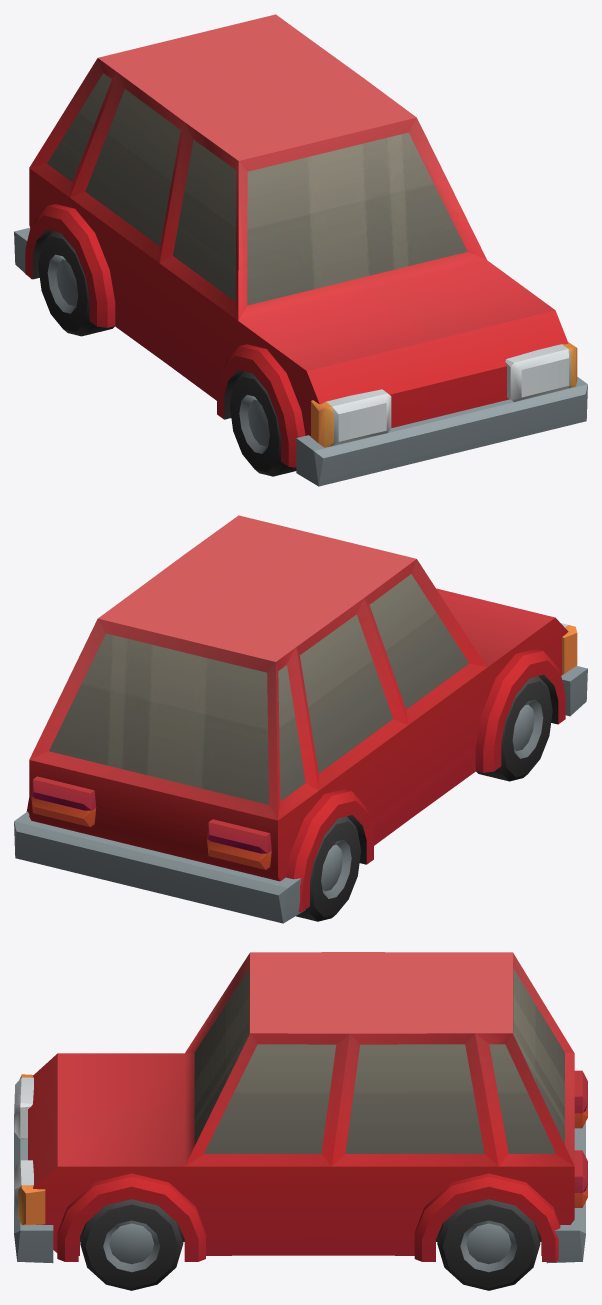
The model's file is car_hatchback.gltf.
3 views of the same model, one above another, from view 1: azimuth 30°, elevation 25°; view 2: azimuth 150°, elevation 25°; view 3: azimuth 270°, elevation 25° (orthographic). The views are drawn at different scales.
Parts seen in each view (by area): view 1: car_hatchback, car_hatchback_wheel_rear_right, car_hatchback_wheel_front_right; view 2: car_hatchback, car_hatchback_wheel_front_right, car_hatchback_wheel_rear_right; view 3: car_hatchback, car_hatchback_wheel_front_left, car_hatchback_wheel_rear_left.
Boxes of the visible parts, x1,y1,x2,y2 form: car_hatchback: (14,14,587,486); car_hatchback_wheel_rear_right: (38,231,114,336); car_hatchback_wheel_front_right: (230,371,296,476); car_hatchback: (14,515,587,923); car_hatchback_wheel_front_right: (476,676,552,781); car_hatchback_wheel_rear_right: (296,816,360,921); car_hatchback: (14,952,587,1263); car_hatchback_wheel_front_left: (80,1199,183,1290); car_hatchback_wheel_rear_left: (437,1199,540,1290).
Bounding box in the file's own units: 0.419 × 0.3688 × 0.8061.
1 material, 1 textured.
